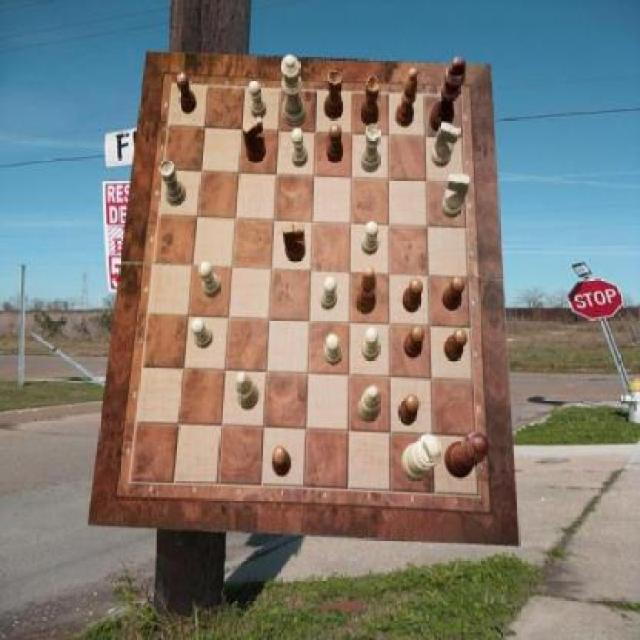bishop: (395, 68, 418, 128), (356, 268, 376, 315)
black-bishop: (429, 55, 466, 133)
black-king: (242, 117, 266, 163), (283, 225, 306, 262)
black-knight: (177, 74, 197, 115), (443, 275, 466, 310), (444, 329, 468, 362), (404, 326, 426, 359), (402, 278, 422, 312), (398, 396, 419, 426), (272, 446, 292, 477), (328, 125, 344, 163)
black-pawn: (445, 432, 489, 478)
black-queen: (324, 71, 344, 120), (360, 77, 380, 126)
black-rook: (236, 372, 260, 410), (358, 385, 382, 422)
white-bishop: (401, 434, 444, 481)
white-king: (443, 172, 471, 218), (432, 121, 460, 167)
white-knight: (200, 262, 223, 298), (290, 128, 308, 168), (249, 80, 267, 120), (191, 318, 213, 349), (320, 277, 338, 311), (362, 328, 379, 362), (362, 222, 379, 256), (325, 334, 342, 366)
white-pawn: (282, 54, 308, 128)
white-queen: (158, 160, 186, 206), (360, 123, 381, 172)
